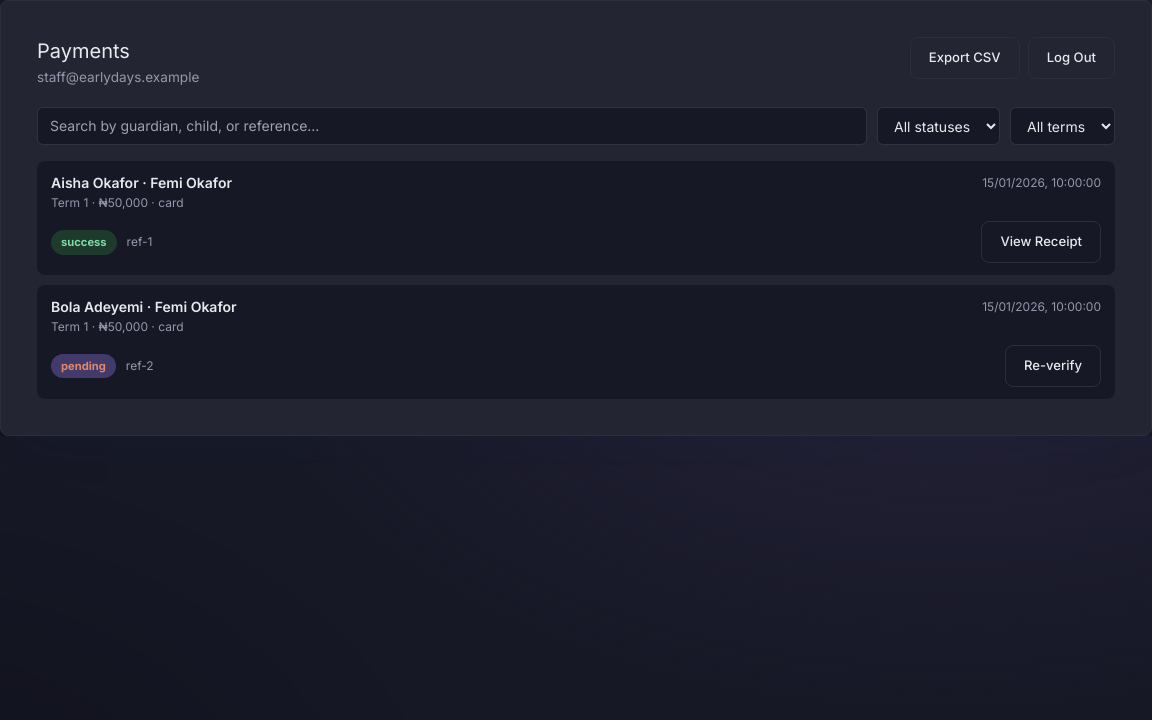
it: AdminPaymentsList › narrows the list by the status filter
The width and height of the screenshot is (1152, 720).
Check: the text "Aisha Okafor · Femi Okafor" is shown, box [51, 173, 232, 193]
Select "pending" in the dropdown named "Filter by status" at [938, 126], box [877, 107, 1000, 145]
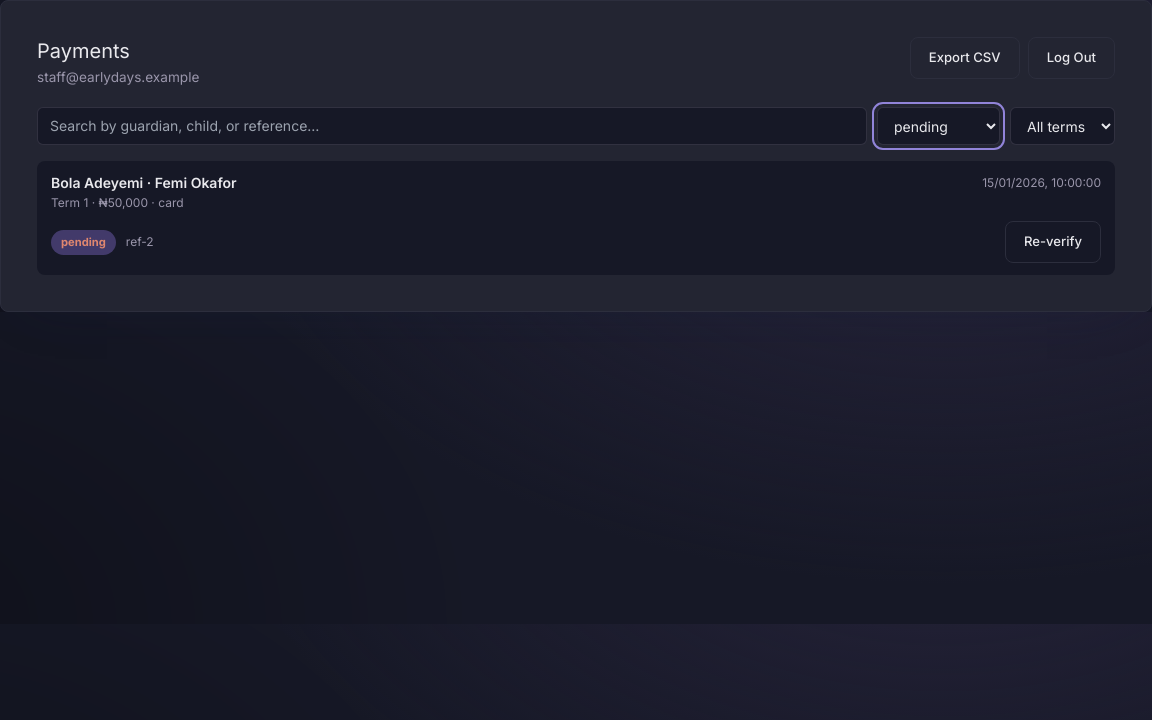
Check: the text "Bola Adeyemi · Femi Okafor" is shown, box [51, 173, 237, 193]
Check: the text "Aisha Okafor · Femi Okafor" is gone
